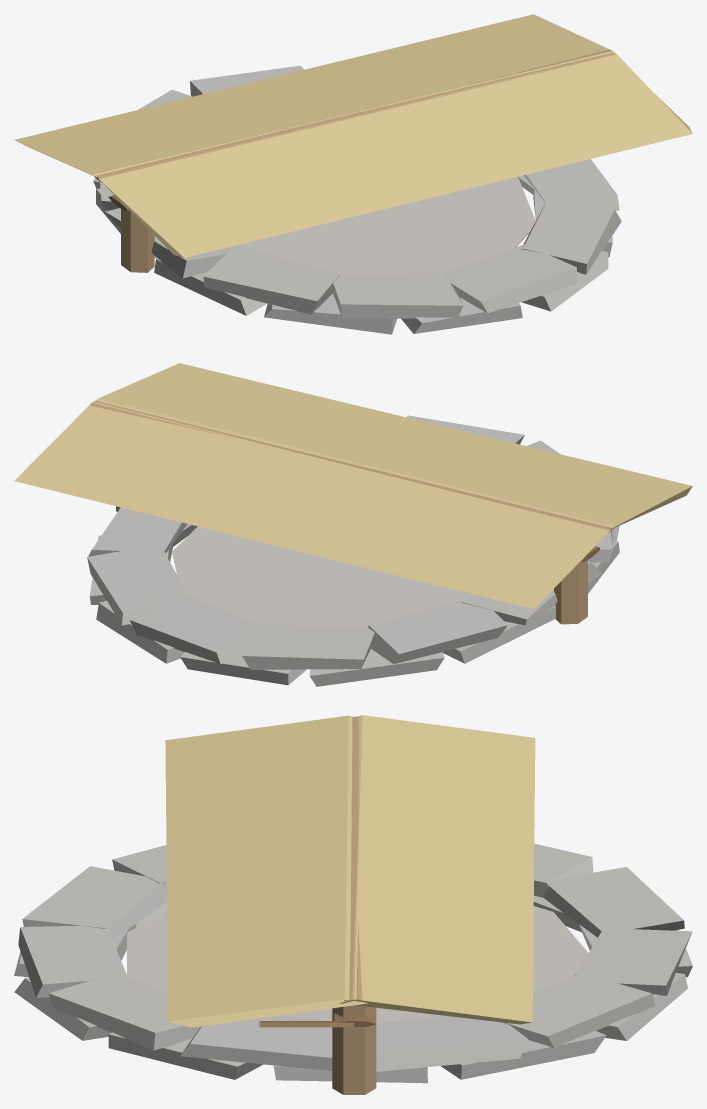
Rendered from building_well_foundation.glb.
The picture shows the model from 3 angles, top to bottom: view 1: azimuth 30°, elevation 25°; view 2: azimuth 150°, elevation 25°; view 3: azimuth 270°, elevation 25°; orthographic projection. The views are drawn at different scales.
Visible parts, largest first — view 1: building_well_foundation; view 2: building_well_foundation; view 3: building_well_foundation.
Boxes of the visible parts, left/top/right/bottom form: building_well_foundation: left=14, top=14, right=692, bottom=334; building_well_foundation: left=14, top=363, right=692, bottom=686; building_well_foundation: left=14, top=715, right=692, bottom=1094.
Size of the model in its own units: 1 by 0.1809 by 1.
